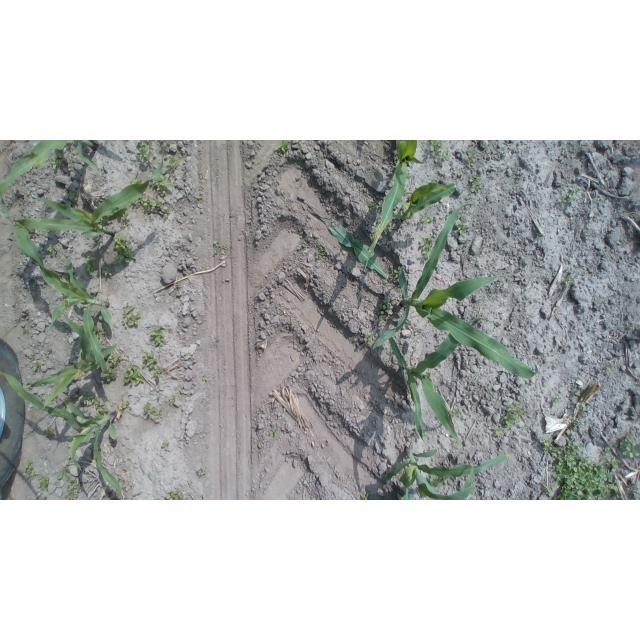Maize: (372, 202, 541, 379), (0, 198, 112, 374), (0, 370, 124, 500), (1, 151, 164, 241), (389, 317, 495, 447), (28, 311, 116, 412), (366, 140, 425, 269), (382, 447, 511, 500), (0, 140, 100, 198), (394, 181, 456, 219)
Weeds: (540, 434, 620, 500), (112, 234, 135, 263), (149, 169, 173, 196), (502, 403, 526, 428), (143, 195, 168, 218), (122, 363, 144, 386), (120, 302, 141, 326), (620, 433, 640, 458), (558, 186, 581, 205), (135, 140, 154, 162), (419, 235, 434, 259), (65, 480, 82, 500), (143, 402, 163, 419), (377, 298, 391, 322), (85, 255, 100, 277), (149, 326, 165, 346), (426, 473, 448, 487), (23, 460, 36, 482), (141, 352, 157, 369), (92, 396, 108, 413), (273, 140, 289, 156), (51, 151, 64, 170), (213, 239, 228, 254), (107, 351, 121, 367), (471, 175, 482, 194), (37, 475, 49, 492), (429, 141, 442, 156), (166, 490, 185, 500), (56, 469, 71, 481), (120, 209, 131, 225), (466, 149, 477, 164), (578, 397, 586, 417), (167, 155, 180, 167), (104, 369, 117, 381), (82, 392, 94, 405), (44, 427, 56, 439), (415, 427, 428, 438), (562, 275, 575, 286), (389, 267, 400, 280), (457, 222, 467, 235), (448, 409, 462, 418), (420, 213, 431, 224), (315, 248, 325, 260), (494, 424, 503, 437), (48, 244, 57, 257), (92, 326, 101, 339), (360, 492, 373, 500), (69, 191, 79, 201), (121, 401, 131, 411), (154, 367, 163, 378), (93, 236, 102, 246), (442, 151, 450, 162), (131, 197, 143, 204), (102, 322, 109, 334), (269, 428, 278, 437), (102, 268, 112, 276), (62, 273, 70, 283), (130, 178, 143, 184), (627, 484, 638, 491), (554, 396, 562, 405), (94, 413, 103, 421), (364, 334, 373, 342), (162, 440, 169, 450), (369, 201, 376, 211), (385, 224, 392, 233), (606, 362, 613, 371), (195, 196, 203, 203), (160, 140, 169, 146), (26, 227, 35, 233), (33, 362, 39, 370), (573, 422, 582, 427), (169, 396, 175, 403), (38, 496, 46, 501), (197, 471, 205, 476), (632, 323, 638, 329), (28, 354, 35, 359), (575, 390, 581, 395), (47, 348, 52, 354), (60, 406, 67, 410), (22, 329, 26, 336), (204, 376, 209, 381), (68, 453, 72, 459), (28, 380, 33, 384), (638, 342, 640, 348)
